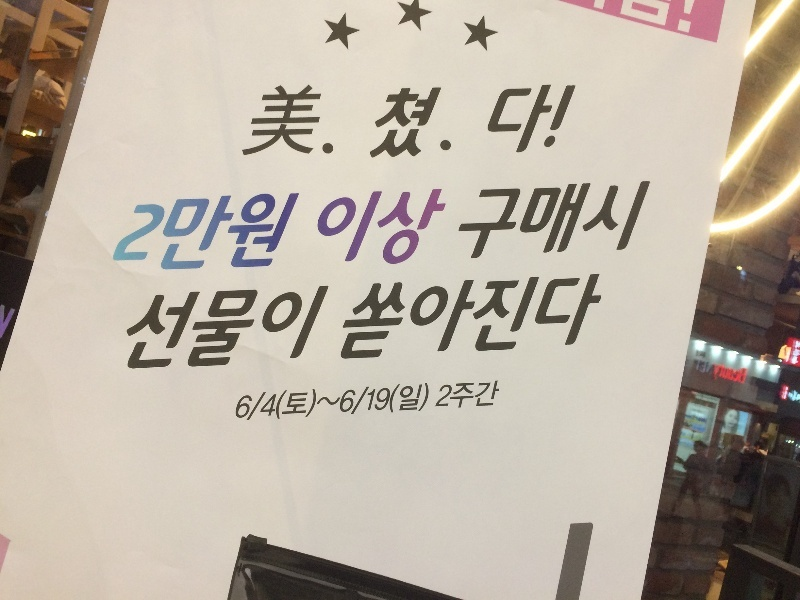text: (353, 272, 368, 365), (369, 272, 384, 365), (385, 272, 400, 365), (401, 272, 416, 365), (417, 272, 432, 365), (433, 272, 448, 365), (449, 272, 464, 365), (465, 272, 480, 365), (481, 272, 496, 365), (497, 272, 512, 365), (513, 272, 528, 365), (529, 272, 544, 365), (545, 272, 560, 365), (561, 272, 576, 365), (577, 272, 592, 365), (593, 272, 608, 365), (145, 283, 160, 372), (161, 283, 176, 372), (177, 283, 192, 372), (193, 283, 208, 372), (209, 283, 224, 372), (225, 283, 240, 372), (241, 283, 256, 372), (257, 283, 272, 372), (273, 283, 288, 372), (289, 283, 304, 372), (305, 283, 320, 372), (641, 179, 657, 262), (337, 185, 352, 268), (353, 185, 368, 268), (369, 185, 384, 268), (385, 185, 400, 268), (401, 185, 416, 268), (417, 185, 432, 268), (433, 185, 448, 268), (481, 179, 496, 262), (497, 179, 512, 262), (513, 179, 528, 262), (529, 179, 544, 262), (545, 179, 560, 262), (561, 179, 576, 262), (577, 179, 592, 262), (593, 179, 608, 262), (609, 179, 624, 262), (625, 179, 640, 262), (145, 191, 160, 273), (161, 191, 176, 273), (177, 191, 192, 273), (193, 191, 208, 273), (209, 191, 224, 273), (225, 191, 240, 273), (241, 191, 256, 273), (257, 191, 272, 273), (273, 191, 288, 273), (289, 191, 304, 273), (385, 84, 400, 162), (401, 84, 416, 162), (417, 84, 432, 162), (513, 83, 528, 159), (529, 83, 544, 159), (545, 83, 560, 159), (561, 83, 576, 159), (273, 85, 288, 157), (289, 85, 304, 157), (305, 85, 320, 157), (321, 283, 333, 372), (131, 191, 144, 273), (324, 185, 336, 268), (433, 84, 445, 162), (470, 179, 480, 262), (502, 83, 512, 159), (262, 85, 272, 157), (417, 382, 433, 423), (241, 382, 256, 423), (257, 382, 272, 423), (273, 382, 288, 423), (289, 382, 304, 423), (305, 382, 320, 423), (321, 382, 336, 423), (337, 382, 352, 423), (353, 382, 368, 423), (369, 382, 384, 423), (385, 382, 400, 423), (401, 382, 416, 423), (449, 185, 455, 268), (449, 380, 464, 410), (465, 380, 480, 410), (481, 380, 496, 410), (139, 283, 144, 372), (577, 83, 582, 159), (439, 380, 448, 410), (321, 85, 324, 157), (497, 380, 502, 410), (609, 272, 610, 365), (238, 382, 240, 423)
